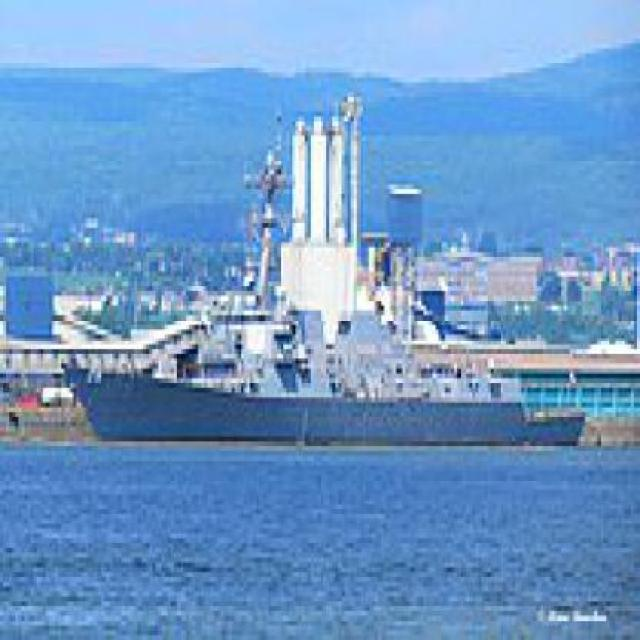warship2: (56, 205, 547, 457)
